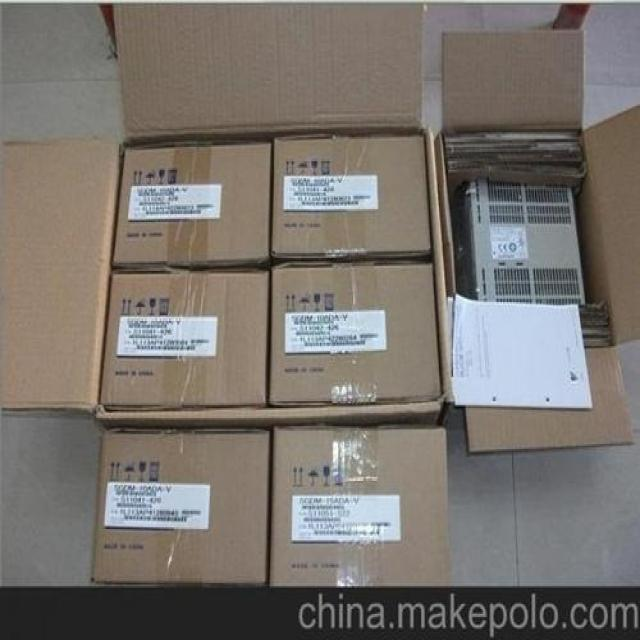box: (269, 426, 449, 586), (92, 430, 270, 583), (98, 268, 269, 406), (269, 264, 439, 402), (273, 133, 428, 261), (112, 144, 272, 267)
